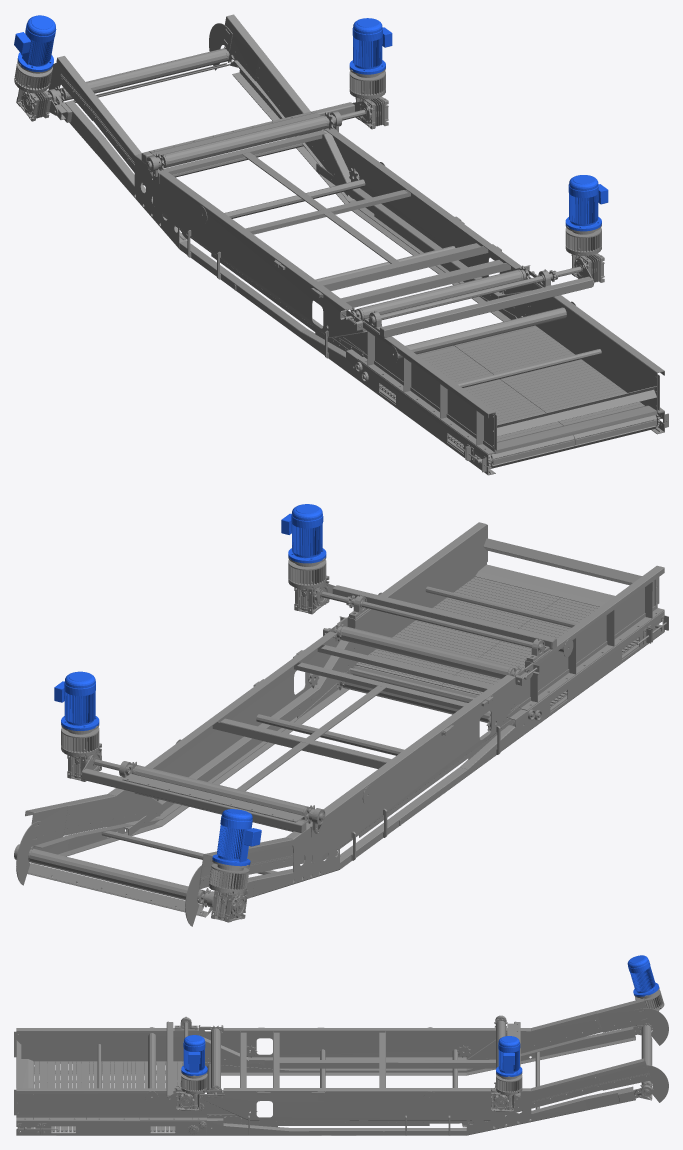
File: opt2.FBX
3 renders of one model, top to bottom at view 1: azimuth 30°, elevation 25°; view 2: azimuth 150°, elevation 25°; view 3: azimuth 270°, elevation 25°, orthographic. The views are drawn at different scales.
Visible parts, largest first — view 1: 實體1; view 2: 實體1; view 3: 實體1.
Boxes of the visible parts, x1,y1,x2,y2 form: 實體1: [14, 14, 668, 475]; 實體1: [14, 504, 668, 926]; 實體1: [14, 955, 668, 1135].
Size of the model in its own units: 142 by 74.62 by 396.
